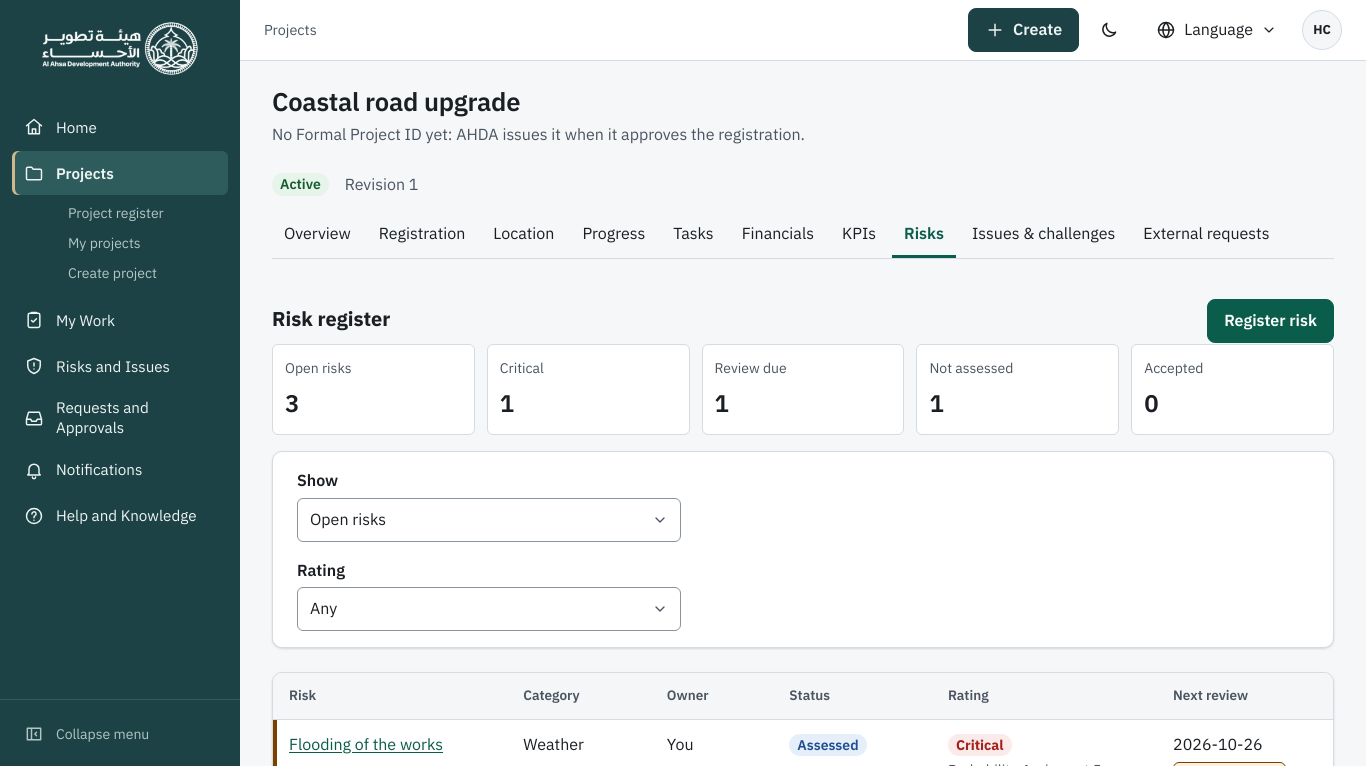
MOD-030 to MOD-034 › MOD-030 checks the form, then registers the risk and lands on it
The width and height of the screenshot is (1366, 766).
Step 1. Click the button "Register risk" → coordinates (1271, 321), box [1207, 299, 1334, 343]
(page scrolled)
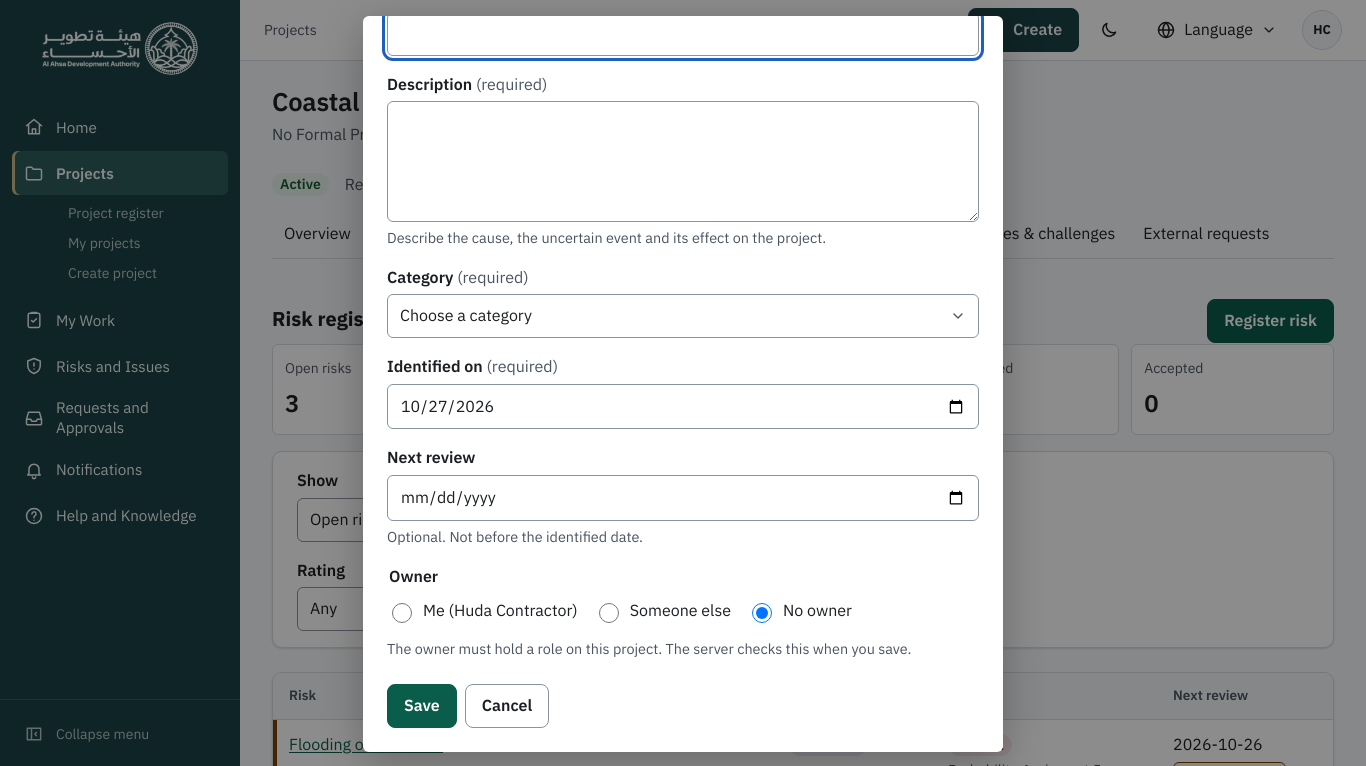
Step 2. Click the button "Save" → coordinates (422, 706), box [387, 684, 457, 728]
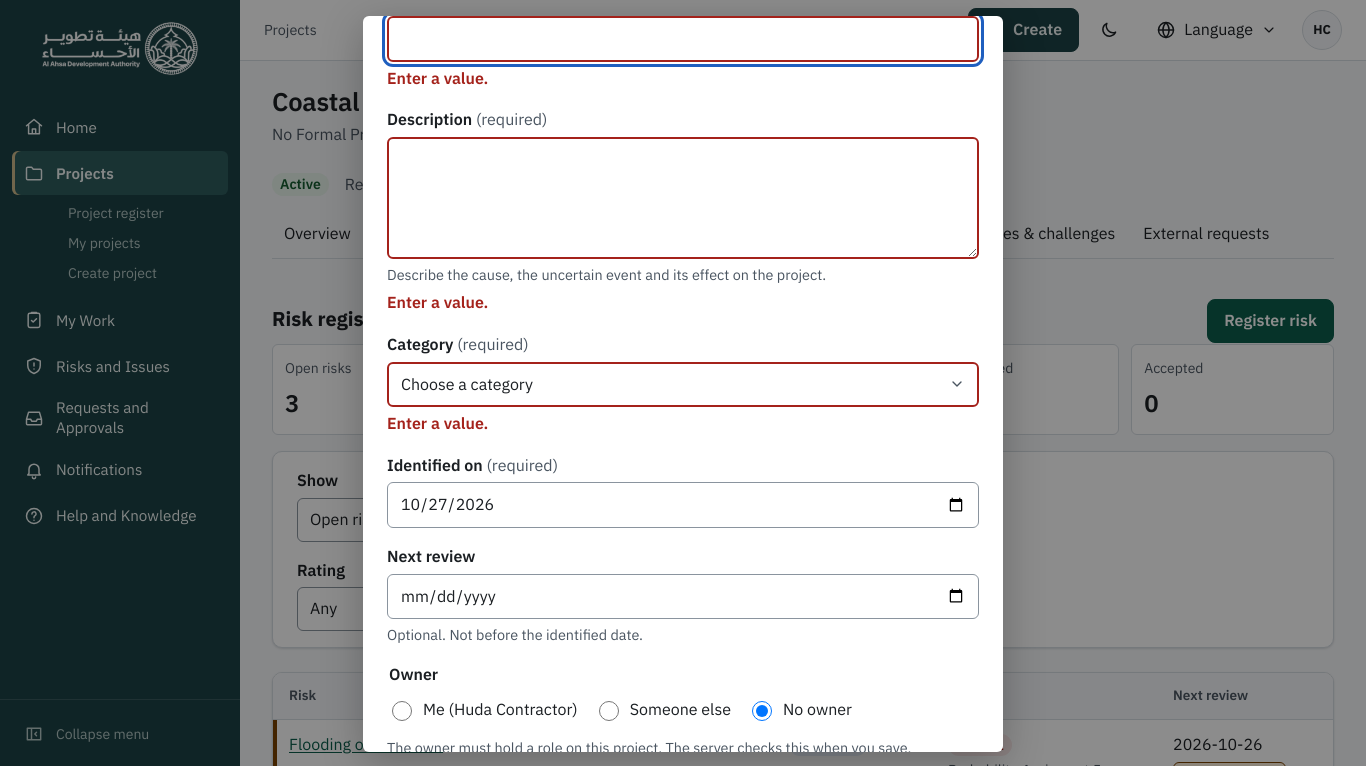
Step 3. Type "Late permits" into the field labelled "Title (required)" → coordinates (683, 39), box [387, 16, 979, 62]
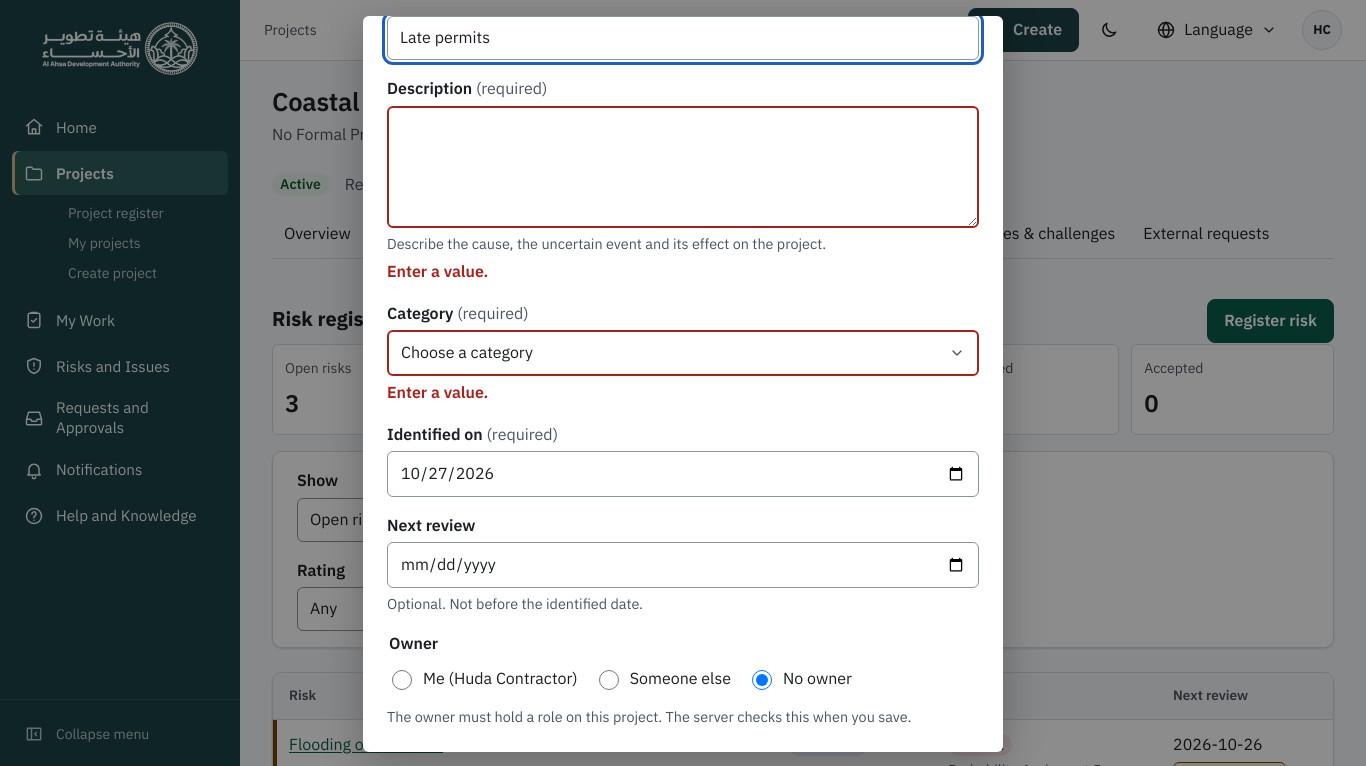
Step 4. Type "Road permits arrive late." into the text box labelled "Description (required)" → coordinates (683, 167), box [387, 106, 979, 228]
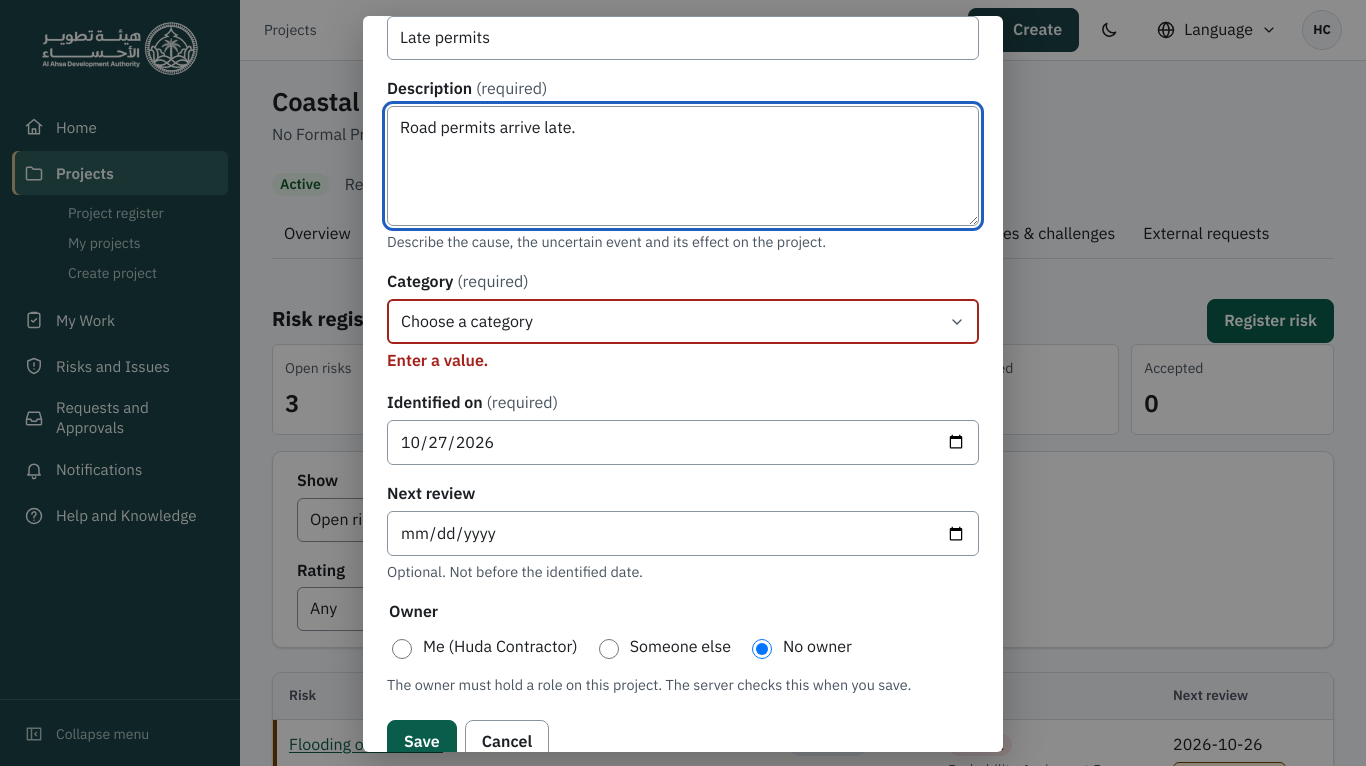
Step 5. Select "Weather" in the dropdown labelled "Category (required)" → coordinates (683, 322), box [387, 299, 979, 344]
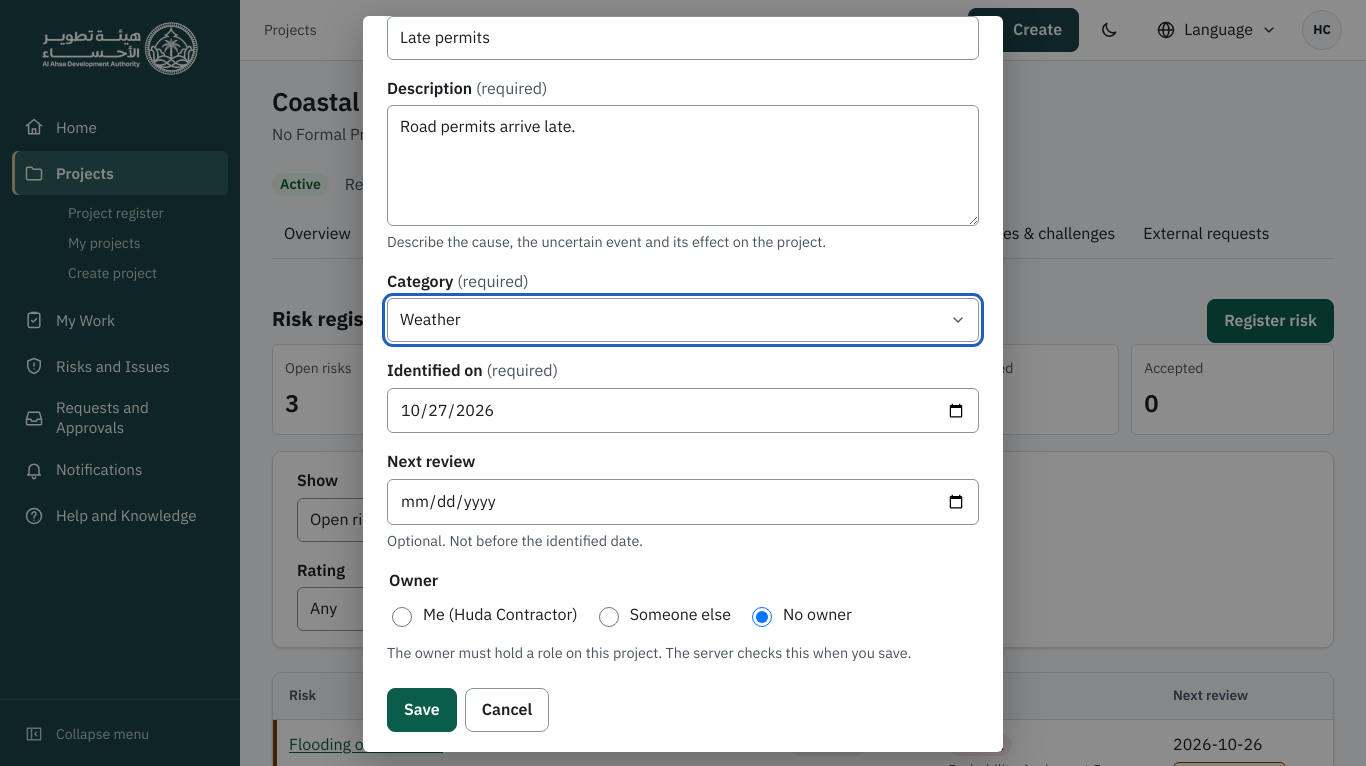
Step 6. Click the button "Save" → coordinates (422, 710), box [387, 688, 457, 732]
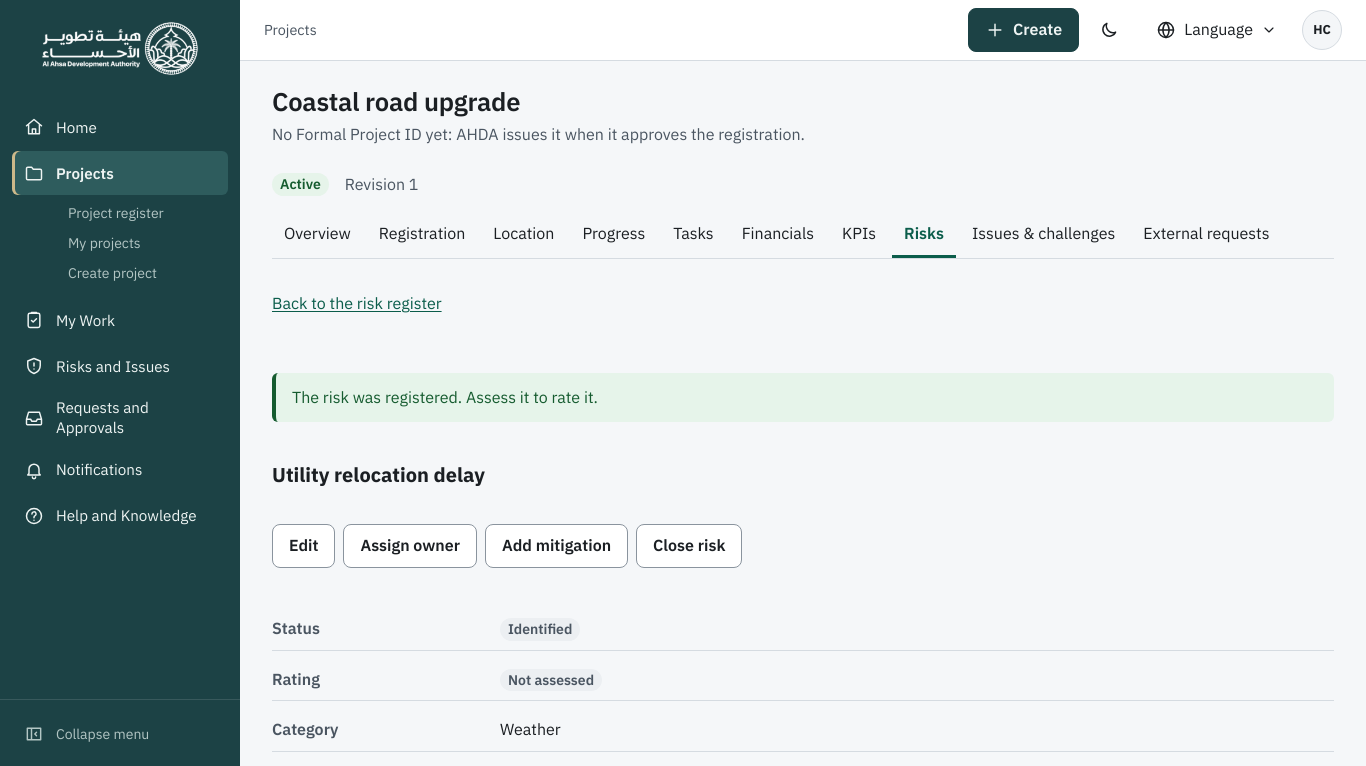
Check: the text "The risk was registered. Assess it to rate it." is shown, box [272, 373, 1334, 422]
